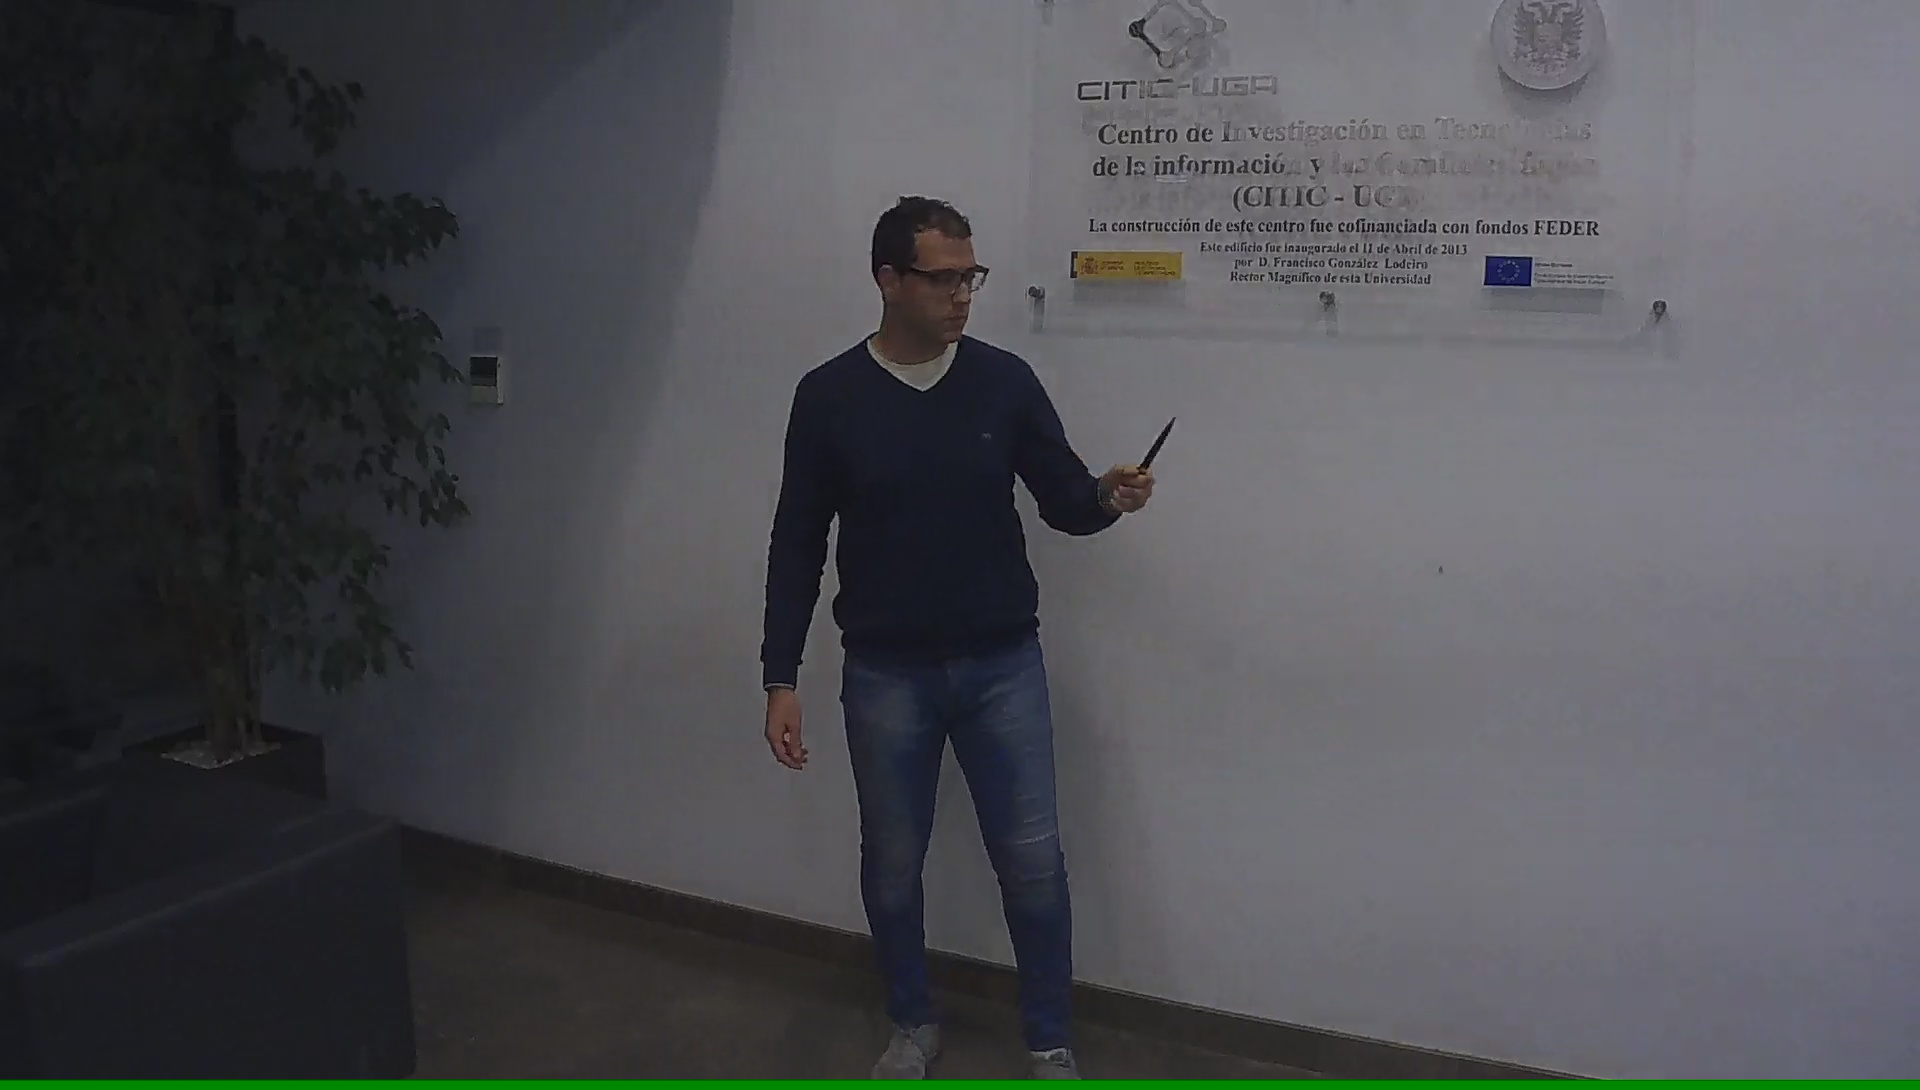knife: (1116, 407, 1185, 510)
